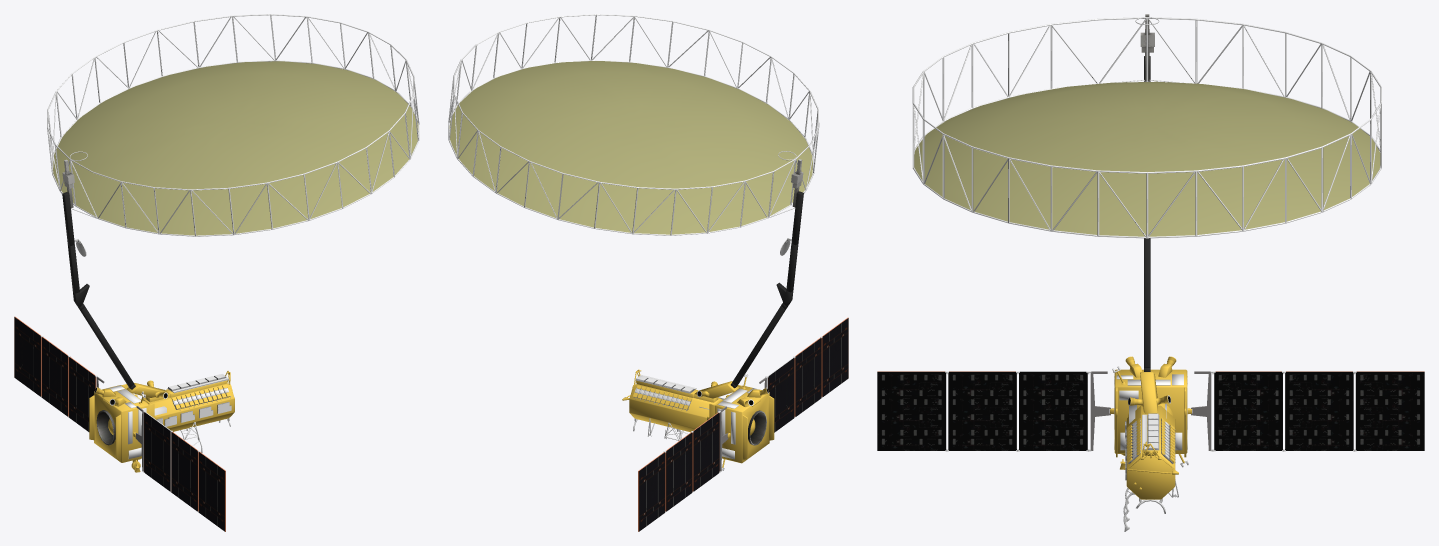
File: india_nisar.glb
The picture shows the model from 3 angles, left to right: view 1: azimuth 30°, elevation 25°; view 2: azimuth 150°, elevation 25°; view 3: azimuth 270°, elevation 25°; orthographic projection. The views are drawn at different scales.
Visible parts, largest first — view 1: antenna_mesh_top, antenna_railing, Cube.041, BUS_instruments, Cube.016, Cube.058, Cube.057, Cube.062, Left_panel_3, Right_panel_3, Cube.061, BUS.009; view 2: antenna_mesh_top, antenna_railing, Cube.041, Cube.016, Cube.062, Cube.061, Right_panel_3, Cube.057, Left_panel_3, BUS_instruments, Cube.058, BUS.009; view 3: antenna_mesh_top, antenna_railing, Cube.041, Left_panel_3, Right_panel_3, Cube.057, Cube.062, Cube.058, Cube.061, BUS_instruments, Cube.016, BUS.009.
Boxes of the visible parts, x1,y1,x2,y2 form: antenna_mesh_top: (53, 61, 418, 235); antenna_railing: (47, 14, 419, 236); Cube.041: (89, 370, 234, 472); BUS_instruments: (96, 374, 231, 445); Cube.016: (62, 192, 169, 397); Cube.058: (143, 411, 172, 491); Cube.057: (171, 431, 199, 511); Cube.062: (41, 336, 69, 416); Left_panel_3: (198, 451, 225, 531); Right_panel_3: (14, 316, 41, 396); Cube.061: (68, 356, 96, 431); BUS.009: (106, 385, 146, 458); antenna_mesh_top: (449, 61, 812, 234); antenna_railing: (448, 14, 819, 235); Cube.041: (622, 369, 774, 470); Cube.016: (694, 191, 803, 398); Cube.062: (663, 431, 692, 511); Cube.061: (691, 411, 719, 491); Right_panel_3: (638, 451, 665, 531); Cube.057: (794, 336, 821, 417); Left_panel_3: (821, 317, 848, 397); BUS_instruments: (633, 375, 766, 445); Cube.058: (767, 356, 794, 432); BUS.009: (717, 388, 758, 459); antenna_mesh_top: (914, 81, 1380, 236); antenna_railing: (912, 17, 1381, 238); Cube.041: (1110, 366, 1191, 531); Left_panel_3: (877, 371, 947, 451); Right_panel_3: (1354, 371, 1424, 451); Cube.057: (946, 371, 1017, 451); Cube.062: (1284, 371, 1355, 451); Cube.058: (1017, 371, 1088, 451); Cube.061: (1213, 371, 1284, 451); BUS_instruments: (1125, 413, 1175, 480); Cube.016: (1140, 56, 1157, 413); BUS.009: (1114, 374, 1187, 450).
Bounding box in the file's own units: 13.04 × 13.96 × 14.29.
Materials: 13 (4 with a texture image).
